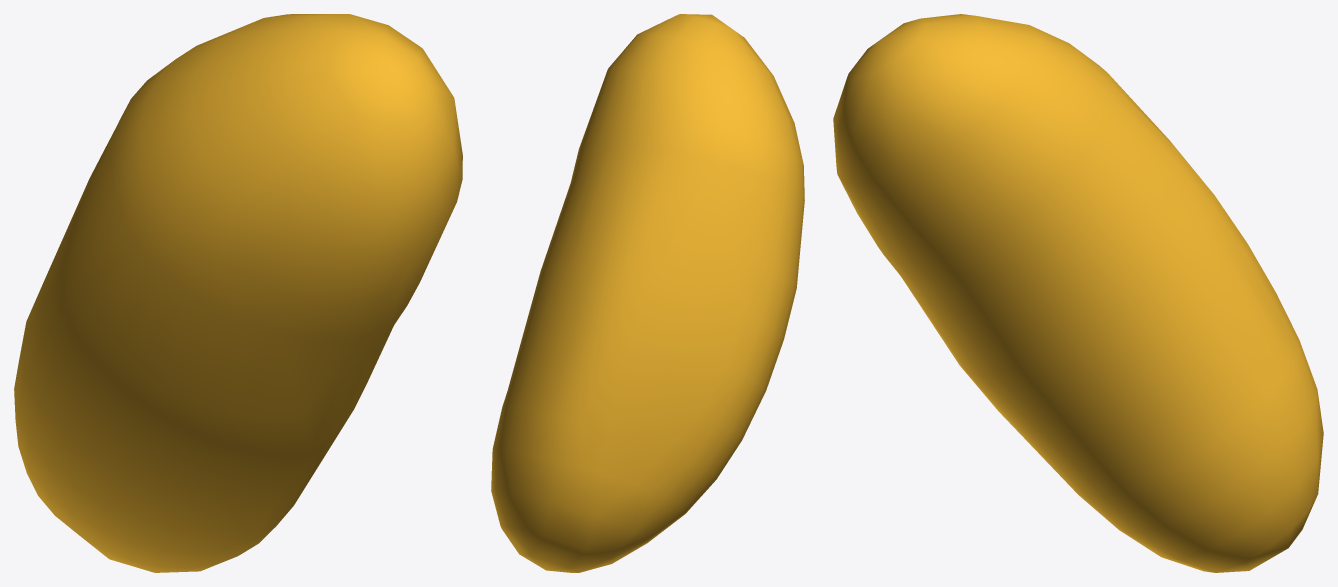
Rendered from nervoso-pyramid-of-medulla-oblongata-r.glb.
3 renders of one model, left to right at view 1: azimuth 30°, elevation 25°; view 2: azimuth 150°, elevation 25°; view 3: azimuth 270°, elevation 25°, orthographic. The views are drawn at different scales.
Visible parts, largest first — view 1: Pyramid of medulla oblongata.r; view 2: Pyramid of medulla oblongata.r; view 3: Pyramid of medulla oblongata.r.
Boxes of the visible parts, x1,y1,x2,y2 form: Pyramid of medulla oblongata.r: (14,14,462,572); Pyramid of medulla oblongata.r: (491,14,804,572); Pyramid of medulla oblongata.r: (833,14,1323,572).
Size of the model in its own units: 0.00673 by 0.0133 by 0.011.
